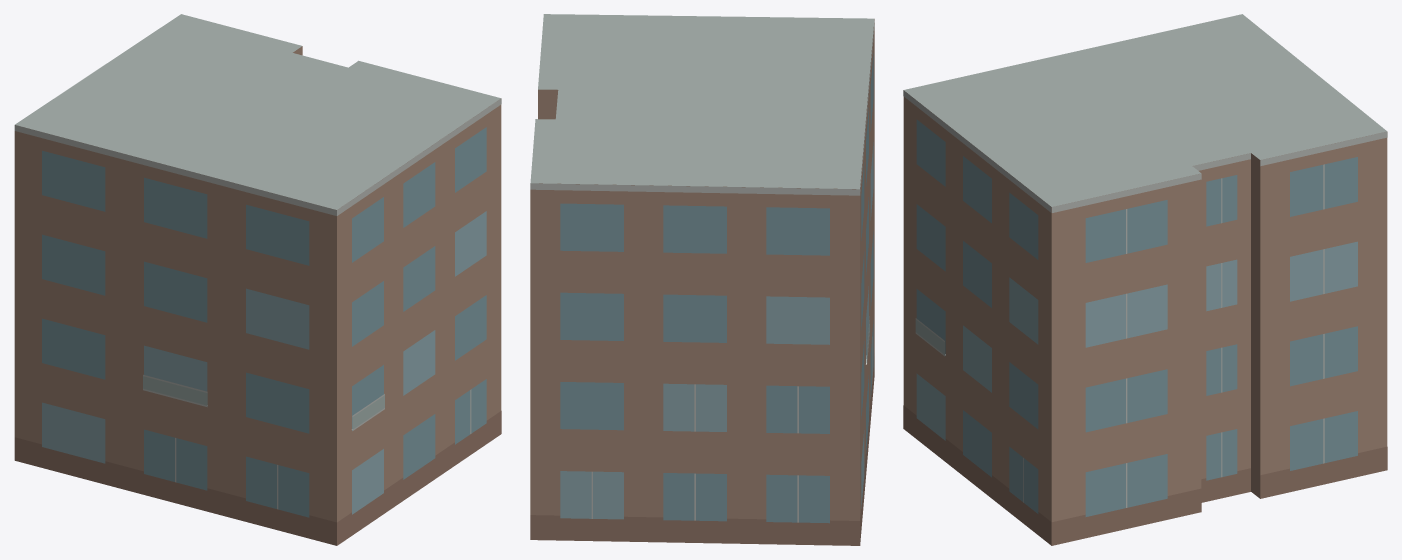
The model's file is survey-upis-32627516.glb.
3 views of the same model, side by side, from view 1: azimuth 30°, elevation 25°; view 2: azimuth 150°, elevation 25°; view 3: azimuth 270°, elevation 25° (orthographic). The views are drawn at different scales.
Visible parts, largest first — view 1: survey-upis-32627516.tmp; view 2: survey-upis-32627516.tmp; view 3: survey-upis-32627516.tmp.
Part boxes in pixels (<box>): survey-upis-32627516.tmp: <box>14,14,501,545</box>; survey-upis-32627516.tmp: <box>530,14,874,545</box>; survey-upis-32627516.tmp: <box>903,14,1387,545</box>.
Size of the model in its own units: 16.39 by 13.4 by 17.36.
